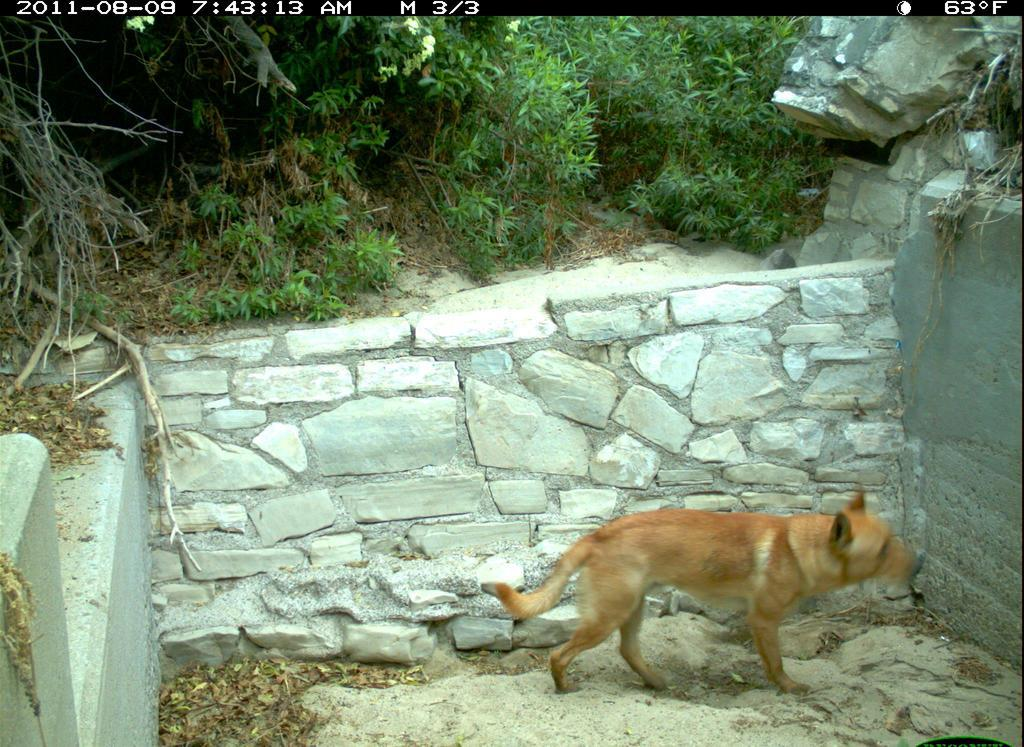dog: (472, 479, 946, 705)
